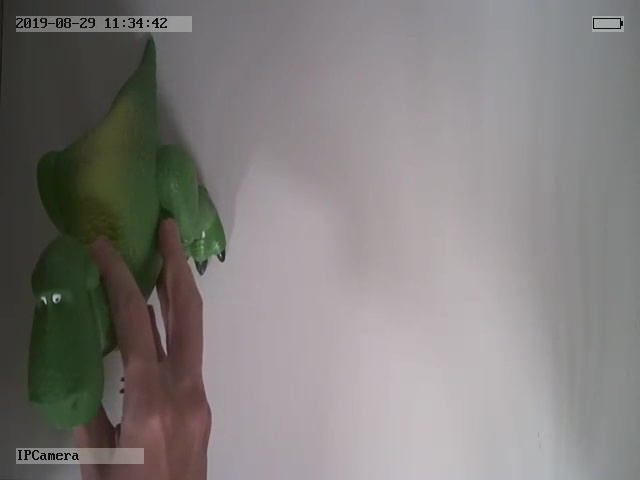rex: (27, 35, 227, 430)
